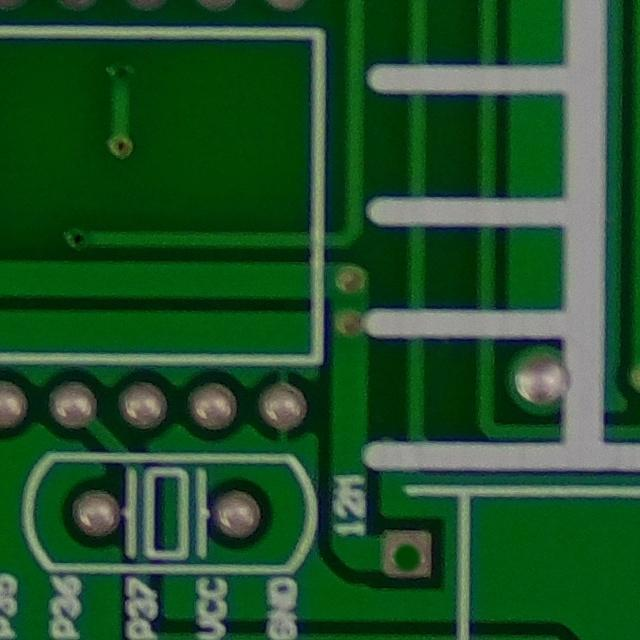missing_hole: (384, 528, 441, 586)
